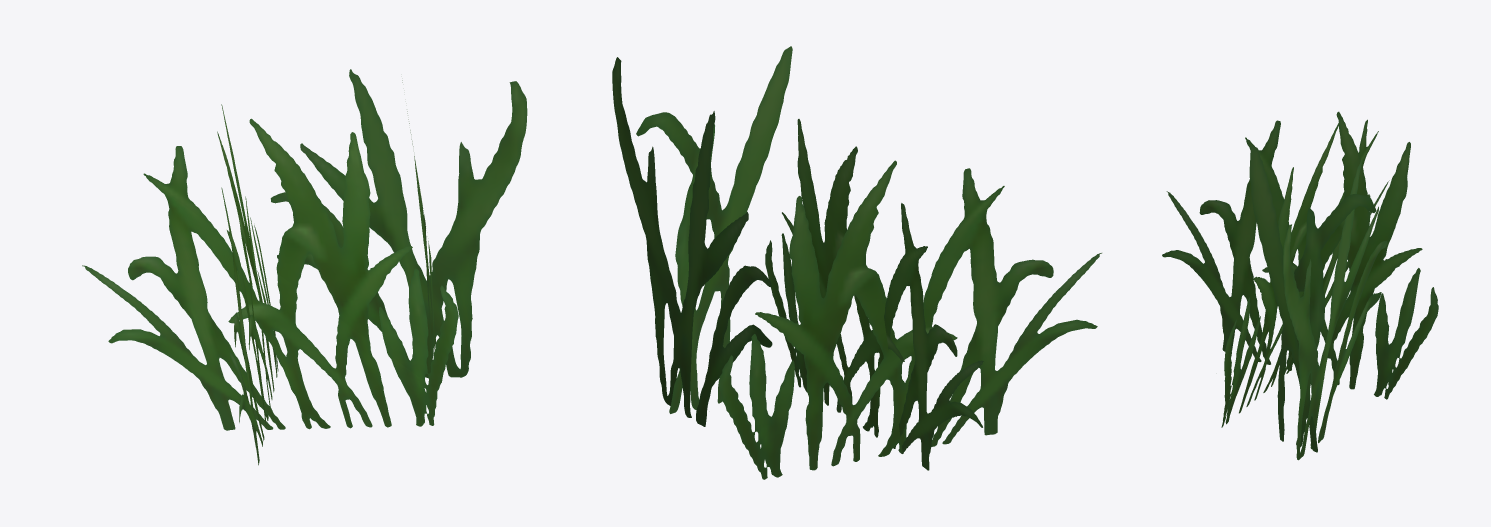
File: scene_lawennushandao_zhiwu11.FBX
3 renders of one model, left to right at view 1: azimuth 30°, elevation 25°; view 2: azimuth 150°, elevation 25°; view 3: azimuth 270°, elevation 25°, orthographic. The views are drawn at different scales.
Visible parts, largest first — view 1: scene_lawennushandao_zhiwu11; view 2: scene_lawennushandao_zhiwu11; view 3: scene_lawennushandao_zhiwu11.
Boxes of the visible parts, box(x1,y1,x2,y2) form: scene_lawennushandao_zhiwu11: box(82, 69, 527, 465); scene_lawennushandao_zhiwu11: box(612, 46, 1101, 479); scene_lawennushandao_zhiwu11: box(1162, 111, 1438, 460).
Size of the model in its own units: 88.05 by 66.46 by 63.34.
